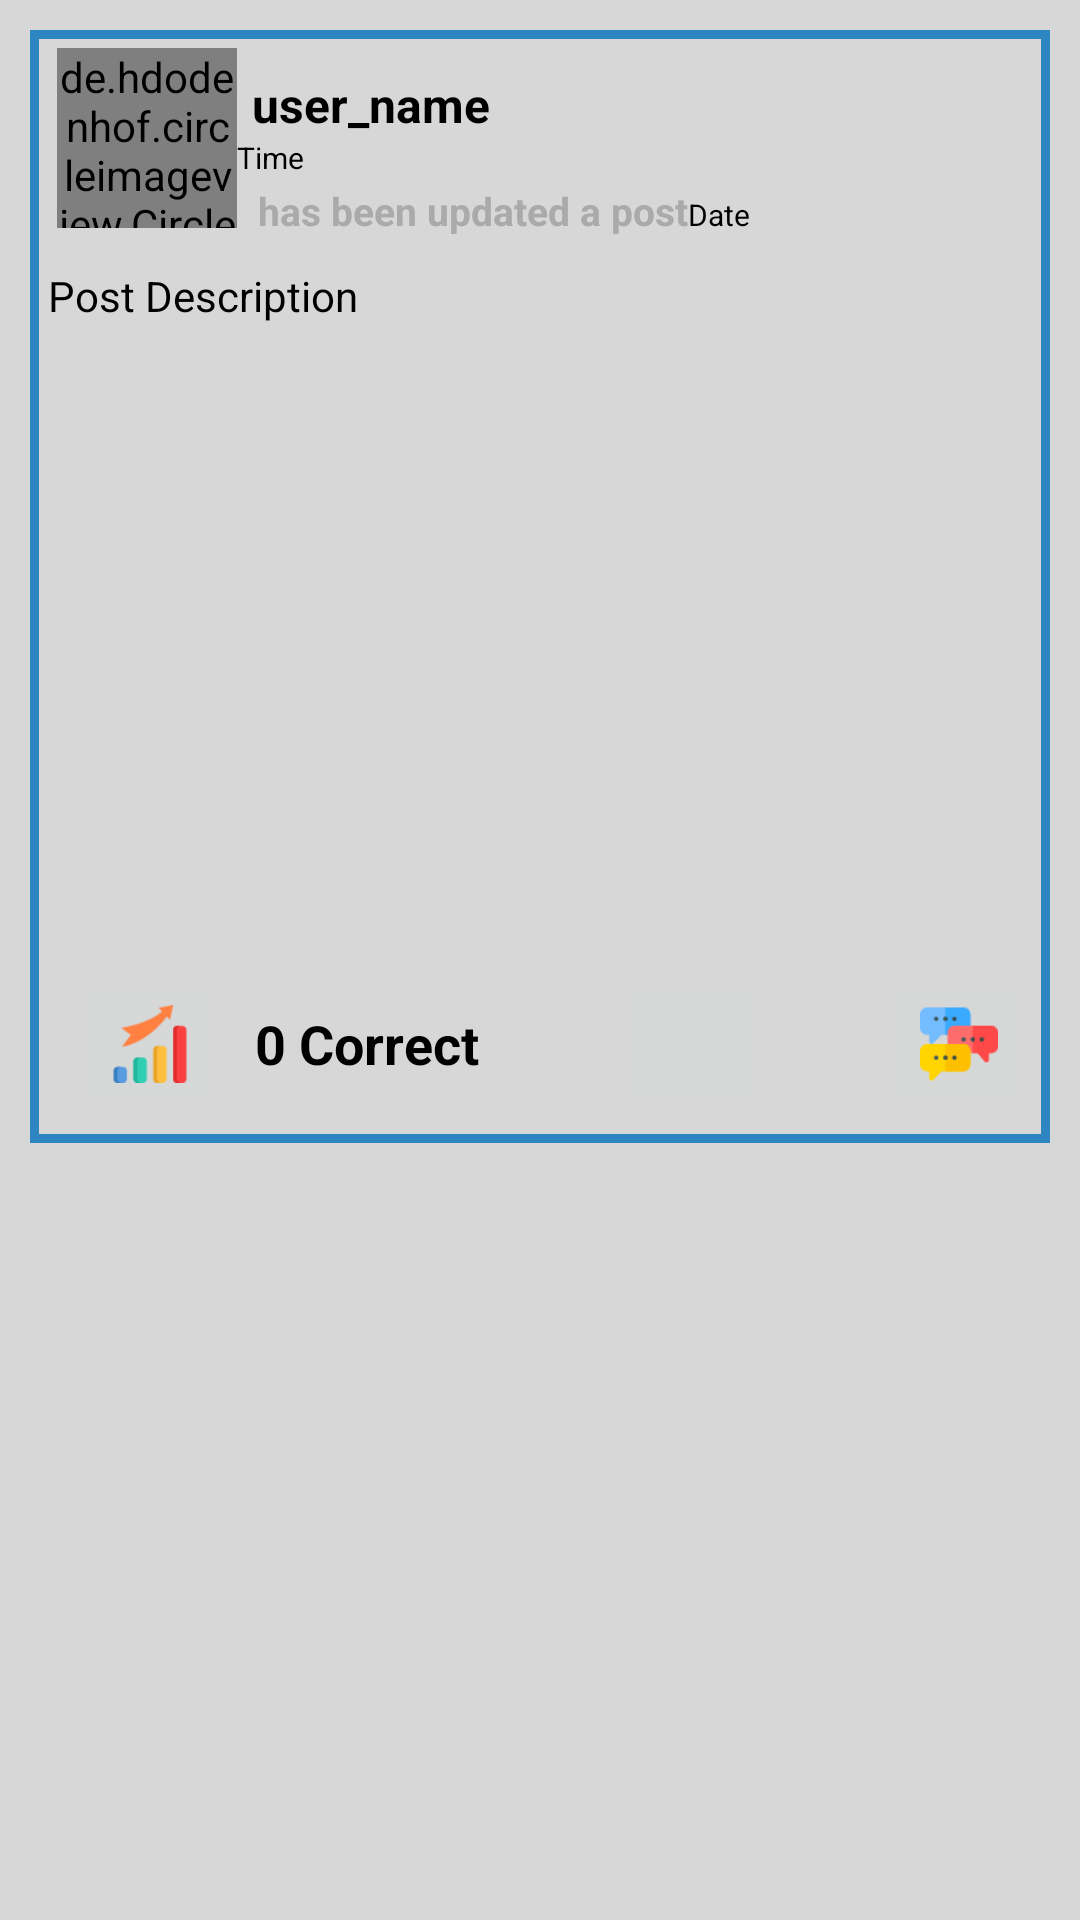

Icon click points for this 1080*1920 phone screenshot, format point (x, y):
rising: point (150, 1044)
